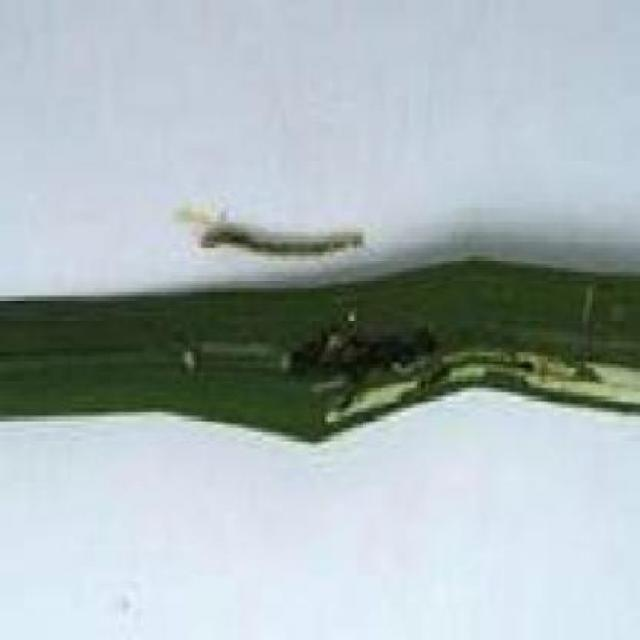leaf-folder: (166, 163, 382, 279)
